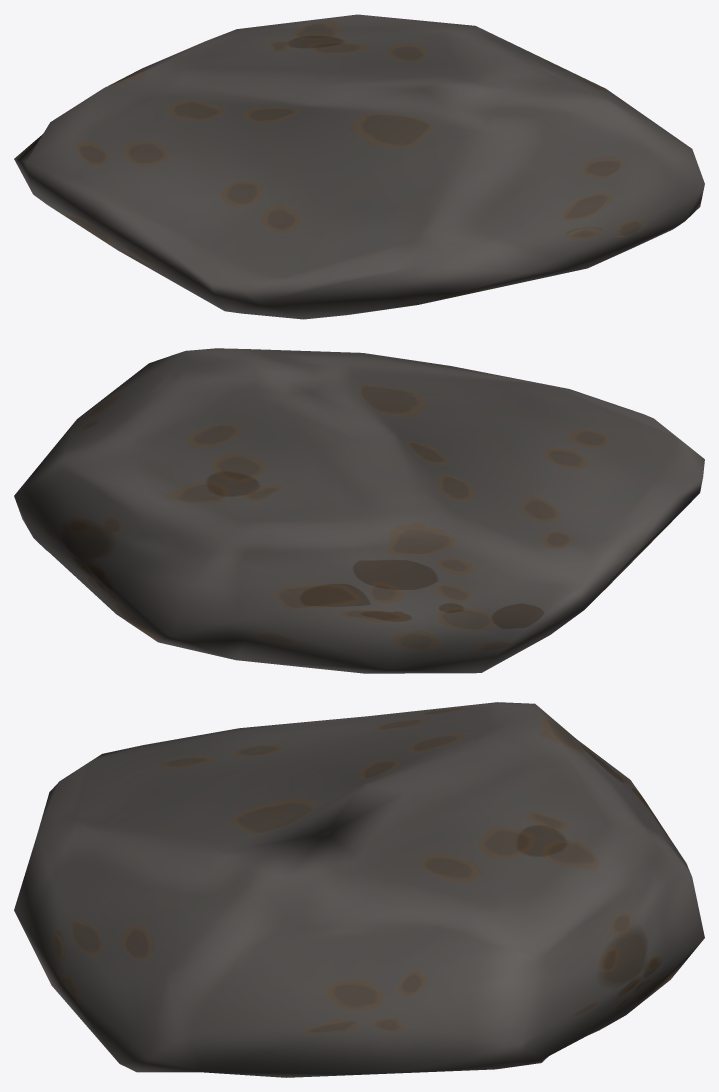
File: Rock Plant 2.FBX
3 renders of one model, top to bottom at view 1: azimuth 30°, elevation 25°; view 2: azimuth 150°, elevation 25°; view 3: azimuth 270°, elevation 25°, orthographic. The views are drawn at different scales.
Visible parts, largest first — view 1: ROCK Plant 2; view 2: ROCK Plant 2; view 3: ROCK Plant 2.
Part boxes in pixels (x1,y1,x2,y2): ROCK Plant 2: (14, 14, 704, 319); ROCK Plant 2: (14, 348, 704, 673); ROCK Plant 2: (14, 702, 704, 1077).
Bounding box in the file's own units: 34.99 × 9.82 × 32.72.
